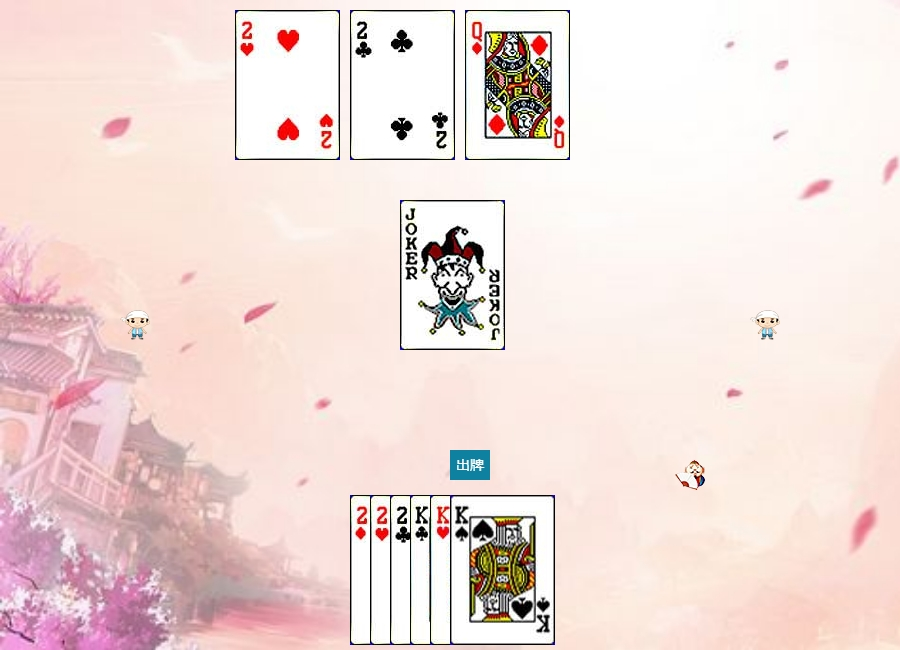12~1: (465, 10, 570, 160)
13~2: (410, 495, 515, 645)
13~3: (430, 495, 535, 645)
13~4: (450, 495, 555, 645)
15~1: (350, 495, 455, 645)
15~2: (350, 10, 455, 160), (390, 495, 495, 645)
15~3: (235, 10, 340, 160), (370, 495, 475, 645)
17~3: (400, 200, 505, 350)
